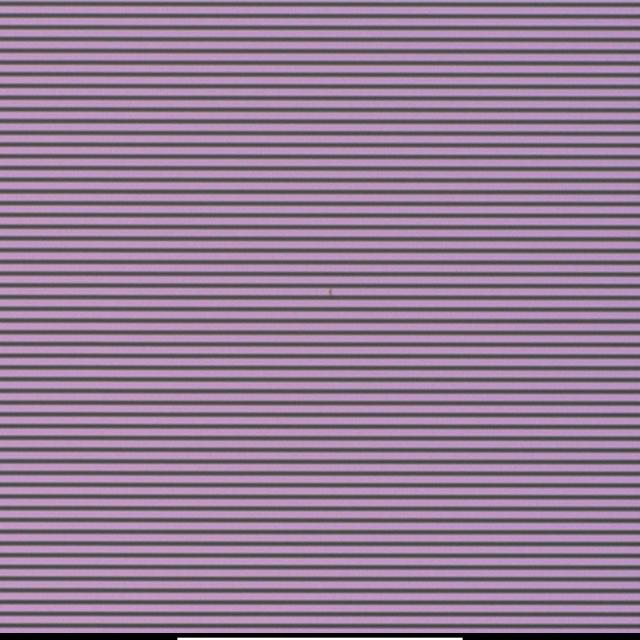nonvisual: (323, 284, 340, 299)
